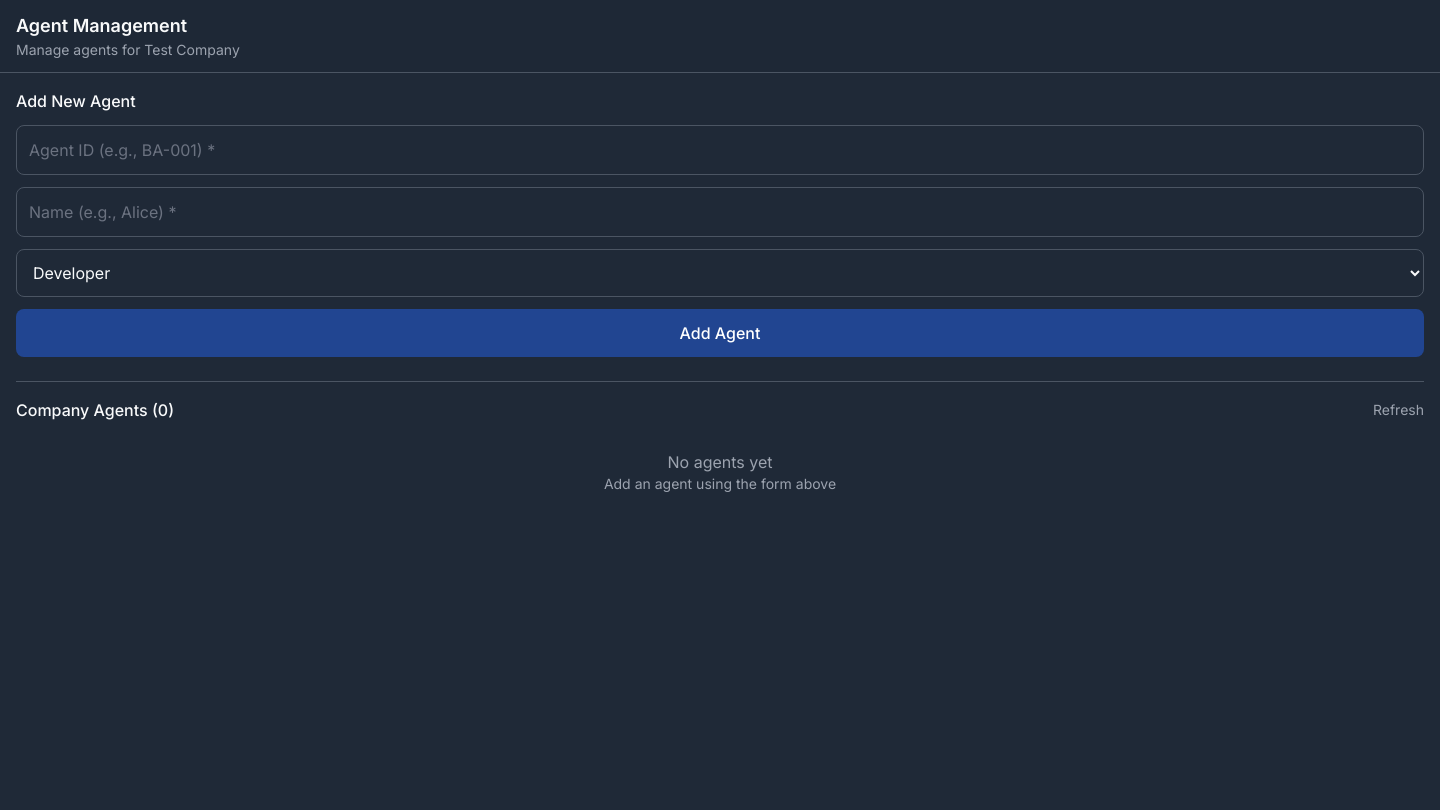
Test: AgentManagement › AC1: Form validation › shows custom role input when "Custom Role" is selected
Select "Custom Role..." in the dropdown at (720, 273), box 16,249 -> 1424,297
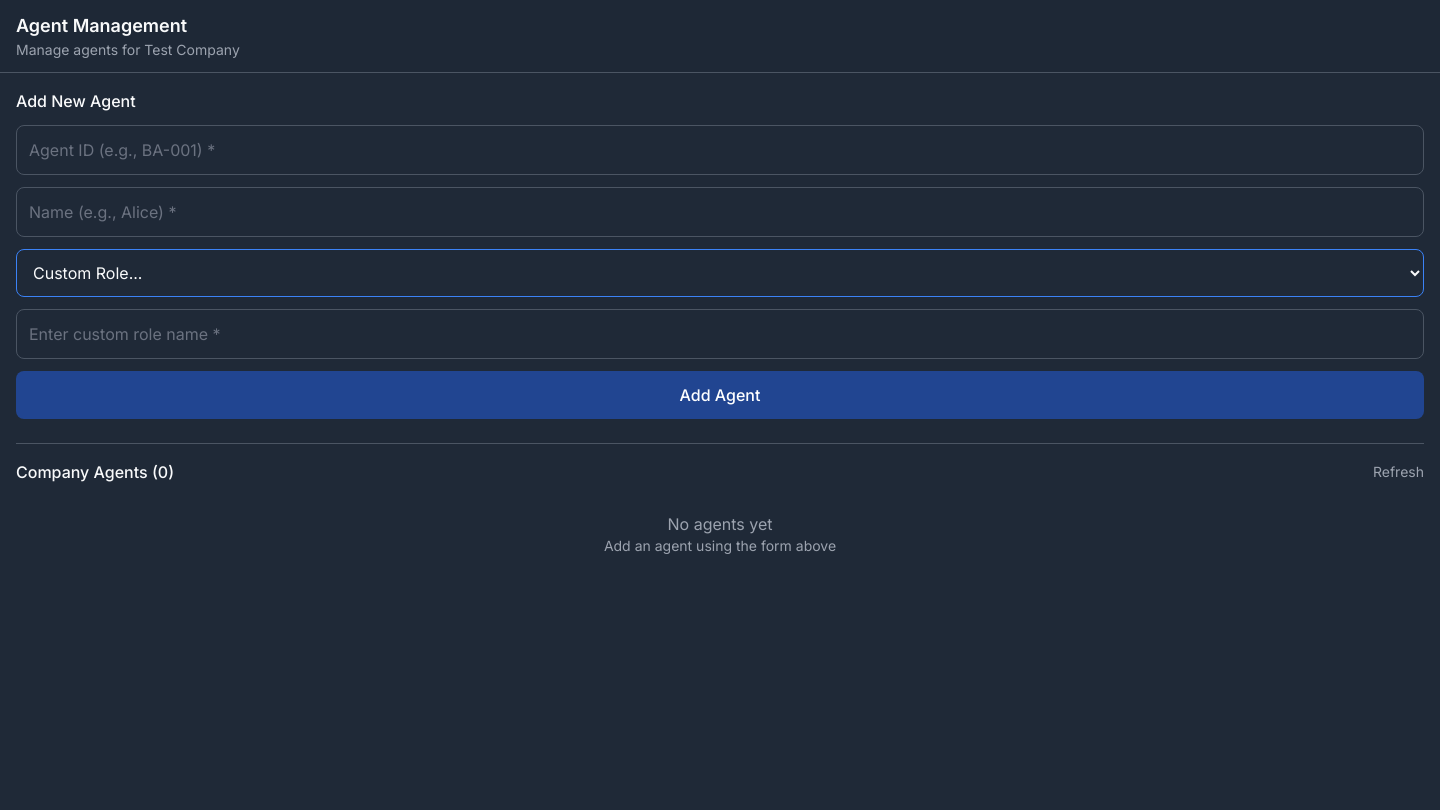
Expected: the field with placeholder "Enter custom role name *" is shown, 16,309 -> 1424,359
